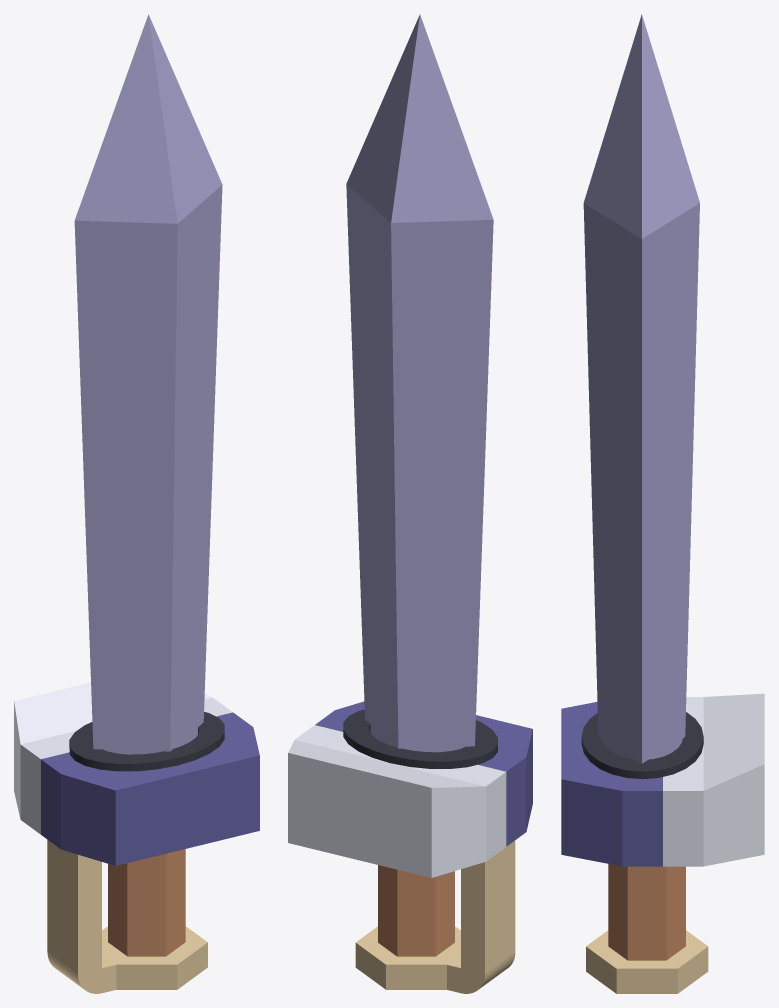
Rendered from SwordTwelve.fbx.
3 renders of one model, left to right at view 1: azimuth 30°, elevation 25°; view 2: azimuth 150°, elevation 25°; view 3: azimuth 270°, elevation 25°, orthographic.
Parts seen in each view (by area): view 1: mergedBlocks; view 2: mergedBlocks; view 3: mergedBlocks.
Boxes of the visible parts, <box> form: mergedBlocks: <box>14,14,259,993</box>; mergedBlocks: <box>288,14,532,993</box>; mergedBlocks: <box>561,14,764,993</box>.
Size of the model in its own units: 4 by 19 by 3.66.
